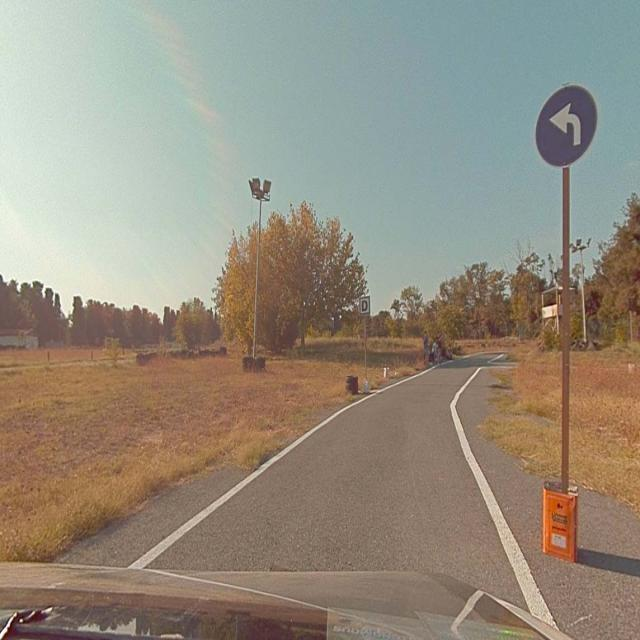durak: (359, 298, 369, 314)
sol: (534, 83, 596, 162)
